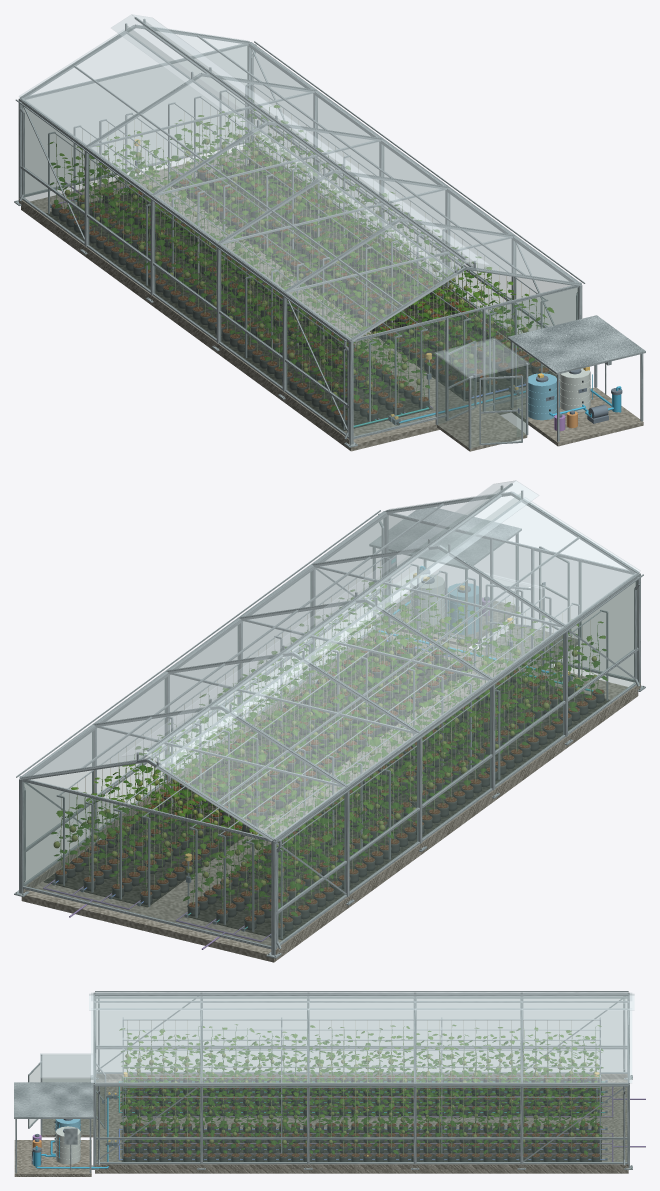
File: greenhouse.glb
3 views of the same model, one above another, from view 1: azimuth 30°, elevation 25°; view 2: azimuth 150°, elevation 25°; view 3: azimuth 270°, elevation 25° (orthographic). The views are drawn at different scales.
Visible parts, largest first — view 1: Roof_UVFilm, WallScreens_InsectMesh, Frame_GalvanizedSteel, Roof_GalvanizedSteel, Floor_GroundCover, Floor_Concrete, Utility_Shelter_GalvanizedSteel, Vestibule_InsectMesh, Row_A01_GrowBag, Row_A01_Foliage, Roof_InsectMesh, Door_Outer_InsectMesh (+59 smaller); view 2: Roof_UVFilm, WallScreens_InsectMesh, Frame_GalvanizedSteel, Roof_GalvanizedSteel, Floor_Concrete, Floor_GroundCover, Utility_Shelter_GalvanizedSteel, Row_A01_GrowBag, Roof_InsectMesh, Row_A01_Foliage, Row_B01_Foliage, Row_A02_Foliage (+58 smaller); view 3: WallScreens_InsectMesh, Roof_UVFilm, Floor_Concrete, Roof_GalvanizedSteel, Frame_GalvanizedSteel, Floor_GroundCover, Roof_InsectMesh, Utility_Shelter_GalvanizedSteel, Row_B03_GrowBag, Row_B04_Foliage, Drainage_Drain, Row_B03_Foliage (+62 smaller).
Boxes of the visible parts, box(x1,y1,x2,y2) form: Roof_UVFilm: box(19, 14, 581, 341); WallScreens_InsectMesh: box(22, 46, 578, 436); Frame_GalvanizedSteel: box(14, 42, 582, 447); Roof_GalvanizedSteel: box(15, 17, 585, 439); Floor_GroundCover: box(46, 164, 556, 430); Floor_Concrete: box(19, 143, 556, 451); Utility_Shelter_GalvanizedSteel: box(507, 315, 645, 441); Vestibule_InsectMesh: box(437, 340, 525, 447); Row_A01_GrowBag: box(51, 206, 347, 427); Row_A01_Foliage: box(50, 162, 355, 411); Roof_InsectMesh: box(127, 21, 473, 270); Door_Outer_InsectMesh: box(481, 377, 520, 443); Roof_UVFilm: box(19, 480, 640, 841); WallScreens_InsectMesh: box(23, 516, 637, 946); Frame_GalvanizedSteel: box(14, 511, 645, 958); Roof_GalvanizedSteel: box(16, 483, 643, 948); Floor_Concrete: box(21, 625, 640, 962); Floor_GroundCover: box(44, 647, 610, 939); Utility_Shelter_GalvanizedSteel: box(369, 507, 521, 643); Row_A01_GrowBag: box(278, 692, 604, 936); Roof_InsectMesh: box(139, 488, 521, 762); Row_A01_Foliage: box(269, 642, 607, 918); Row_B01_Foliage: box(139, 610, 477, 884); Row_A02_Foliage: box(240, 634, 579, 910); WallScreens_InsectMesh: box(96, 1011, 626, 1162); Roof_UVFilm: box(89, 992, 634, 1083); Floor_Concrete: box(95, 1074, 628, 1173); Roof_GalvanizedSteel: box(93, 991, 629, 1165); Frame_GalvanizedSteel: box(91, 992, 632, 1169); Floor_GroundCover: box(121, 1079, 601, 1161); Roof_InsectMesh: box(96, 997, 627, 1007); Utility_Shelter_GalvanizedSteel: box(14, 1082, 93, 1173); Row_B03_GrowBag: box(123, 1145, 599, 1153); Row_B04_Foliage: box(121, 1116, 602, 1155); Drainage_Drain: box(122, 1086, 645, 1161); Row_B03_Foliage: box(120, 1107, 601, 1145).
Size of the model in its own units: 8.74 by 5.51 by 23.68.
25 materials, 7 textured.
